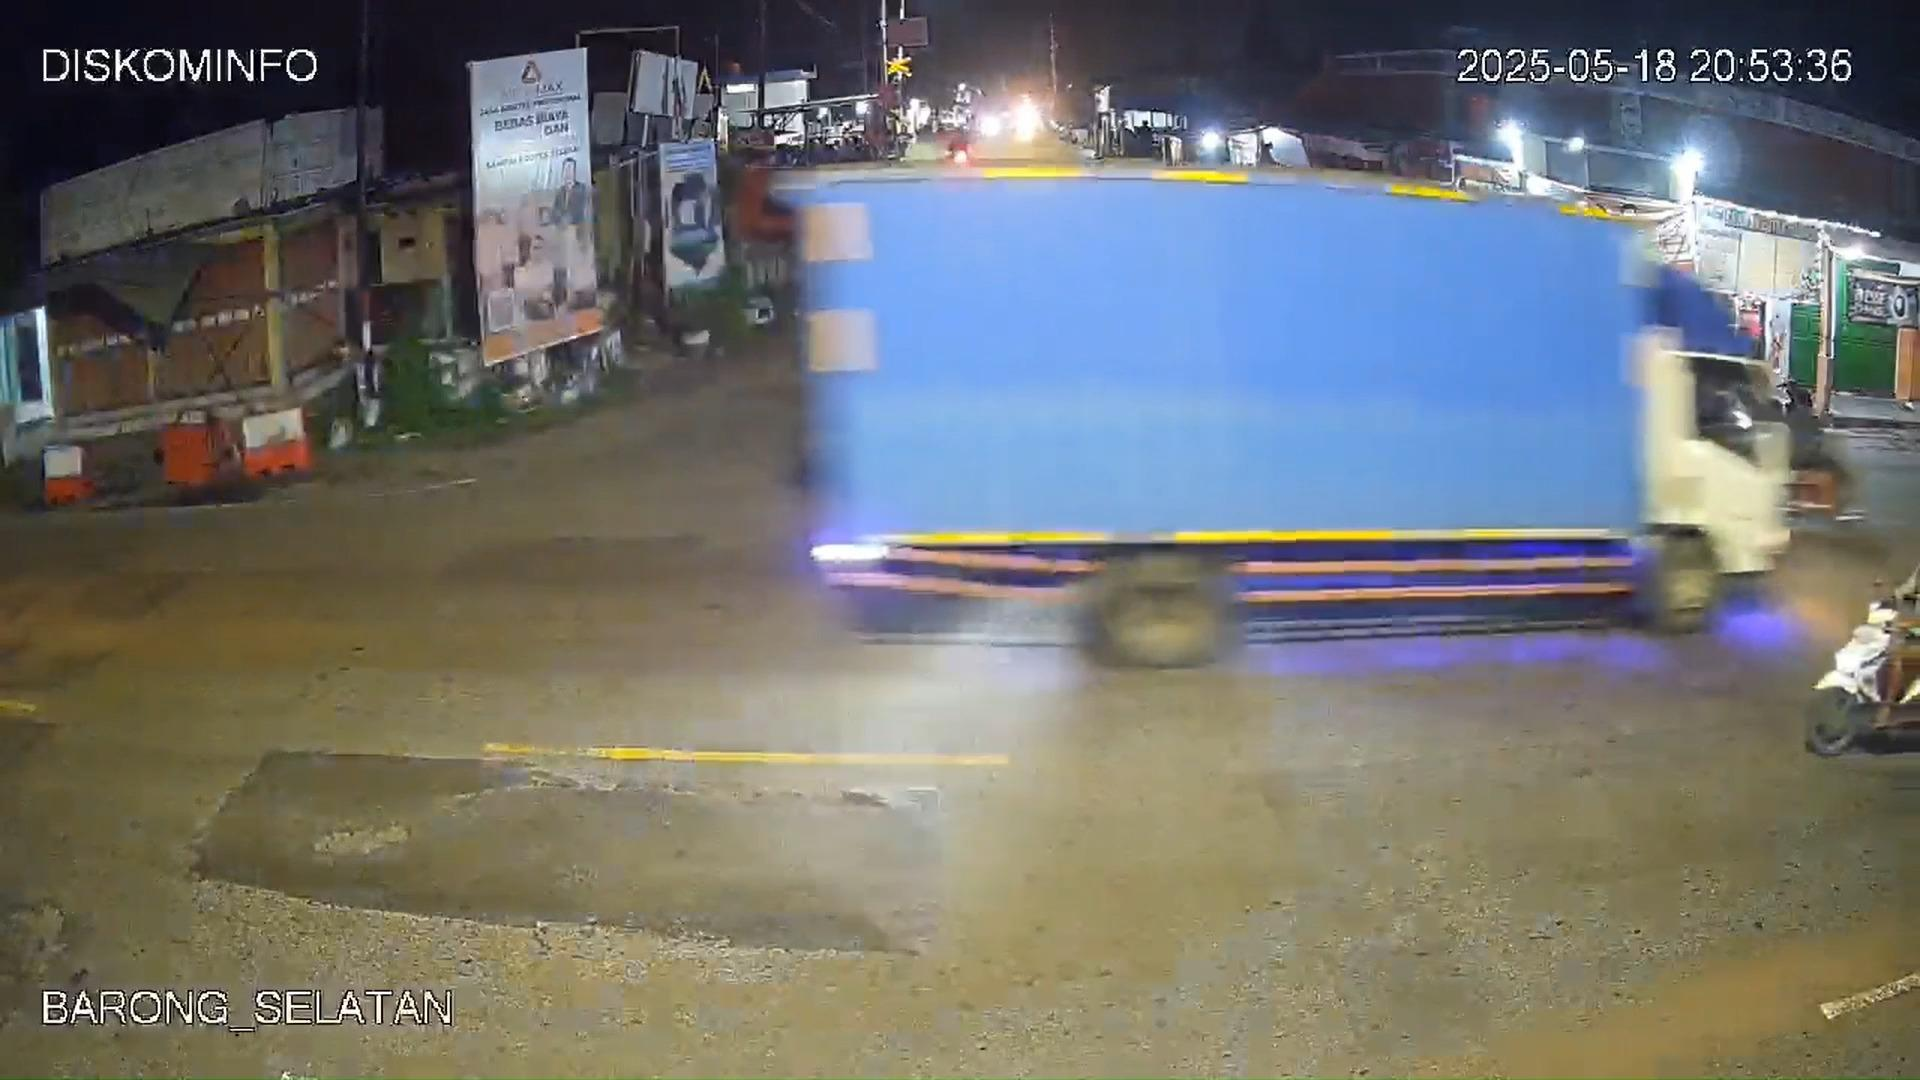Truck: (837, 152, 1791, 678)
